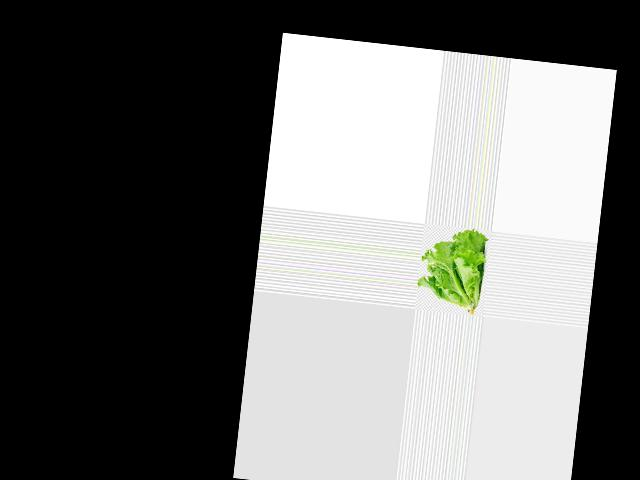lettuce: (415, 224, 486, 315)
